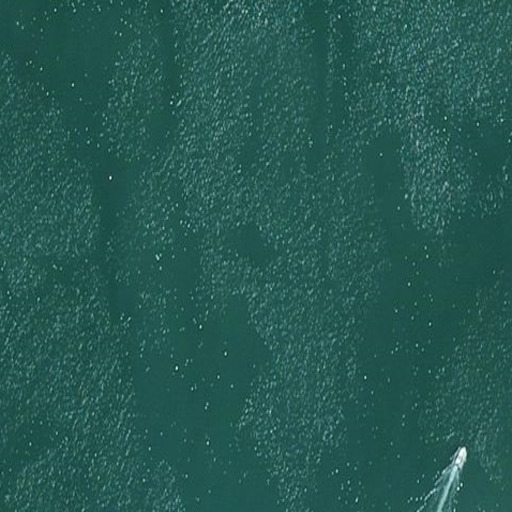ship: (452, 444, 470, 470)
